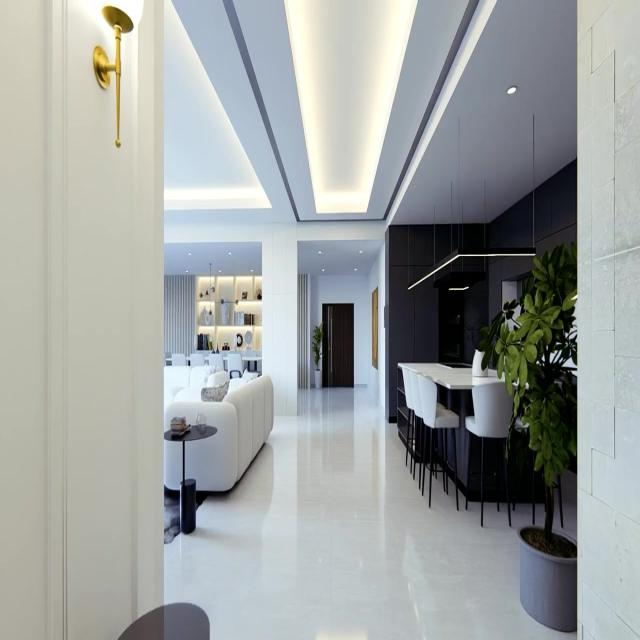door: (322, 302, 354, 387)
obstacle: (164, 366, 274, 494), (465, 384, 514, 530), (164, 423, 218, 533), (418, 375, 460, 512), (195, 274, 262, 354)
